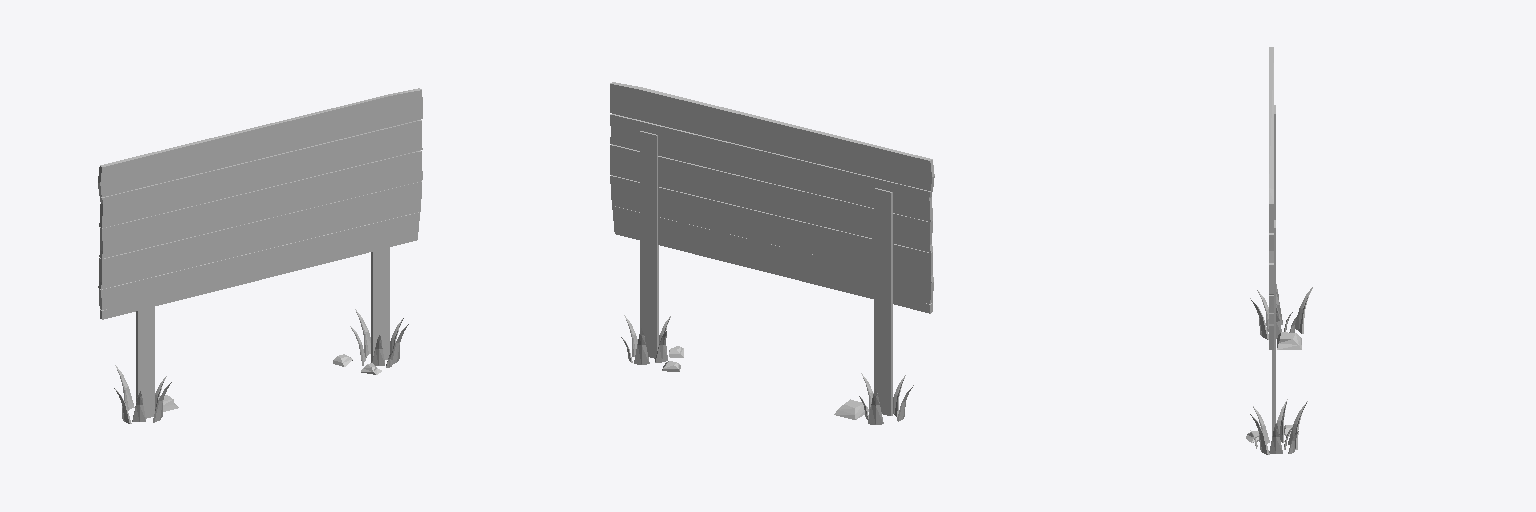
The model's file is Sign12.obj.
3 views of the same model, side by side, from view 1: azimuth 30°, elevation 25°; view 2: azimuth 150°, elevation 25°; view 3: azimuth 270°, elevation 25° (orthographic).
Parts seen in each view (by area): view 1: Sign12; view 2: Sign12; view 3: Sign12.
Part boxes in pixels (x1,y1,x2,y2): Sign12: (98,88,422,423); Sign12: (610,82,934,424); Sign12: (1246,47,1312,454).
Bounding box in the file's own units: 2.99 × 2.35 × 0.5488.